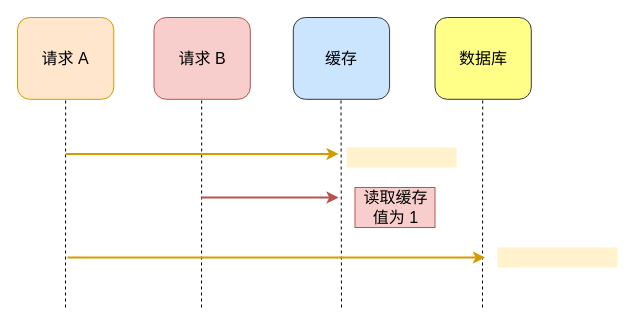
This 635x326 diagram has some shape labels left out. Each missing label, with the centre of its shape:
"数据库更新为 1" goes at (557,257).
"缓存更新为 1" goes at (401,157).
